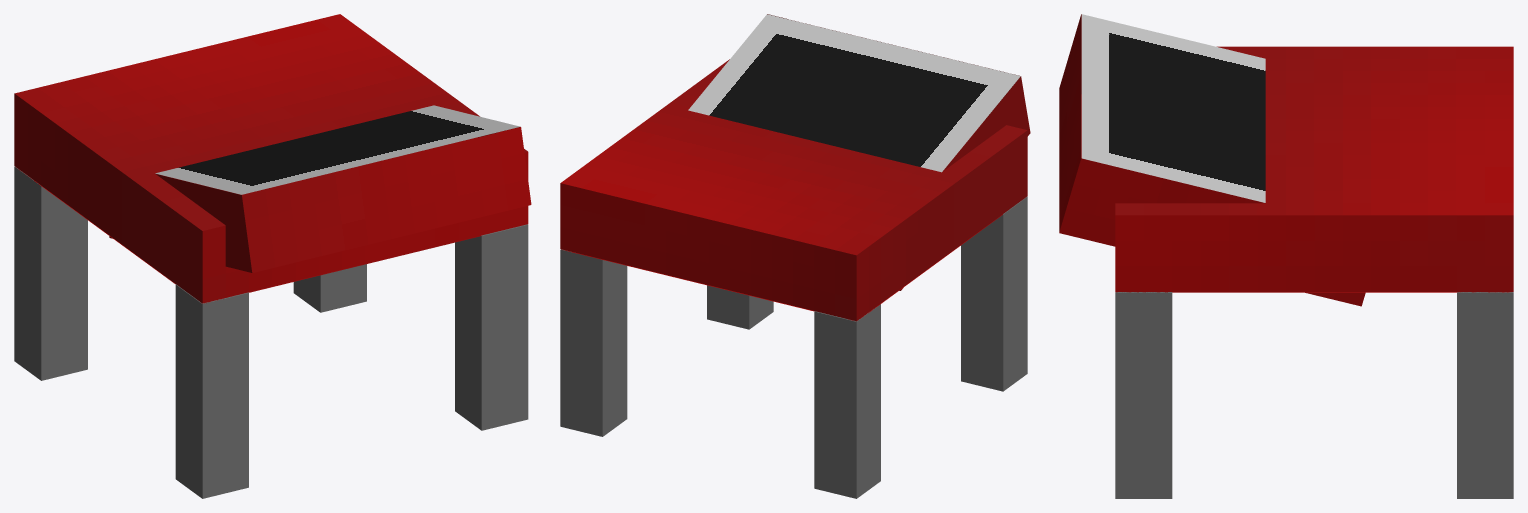
Rendered from programmer.obj.
3 views of the same model, side by side, from view 1: azimuth 30°, elevation 25°; view 2: azimuth 150°, elevation 25°; view 3: azimuth 270°, elevation 25° (orthographic). The views are drawn at different scales.
Bounding box in the file's own units: 0.875 × 0.796 × 0.9981.
